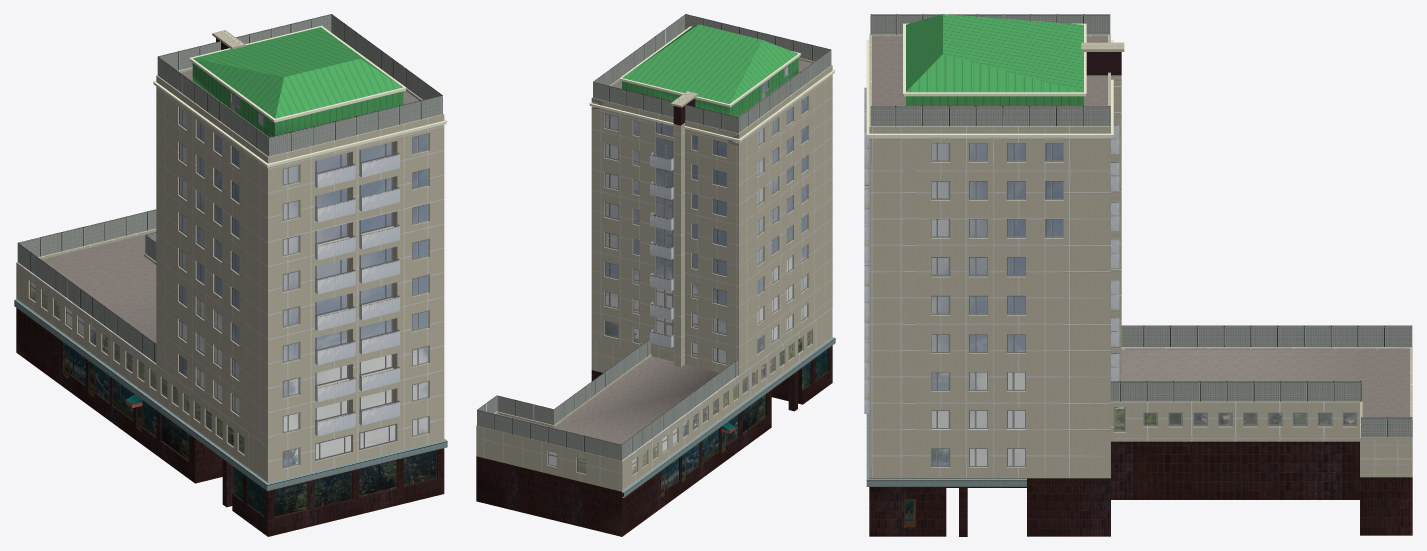
File: kirkkok_9.fbx
3 views of the same model, side by side, from view 1: azimuth 30°, elevation 25°; view 2: azimuth 150°, elevation 25°; view 3: azimuth 270°, elevation 25° (orthographic). The views are drawn at different scales.
Visible parts, largest first — view 1: Object_1; view 2: Object_1; view 3: Object_1.
Boxes of the visible parts, left/top/right/bottom form: Object_1: left=14, top=14, right=447, bottom=536; Object_1: left=476, top=14, right=835, bottom=536; Object_1: left=864, top=14, right=1412, bottom=536.
Bounding box in the file's own units: 1733 × 3729 × 4055.
10 materials, 10 textured.
